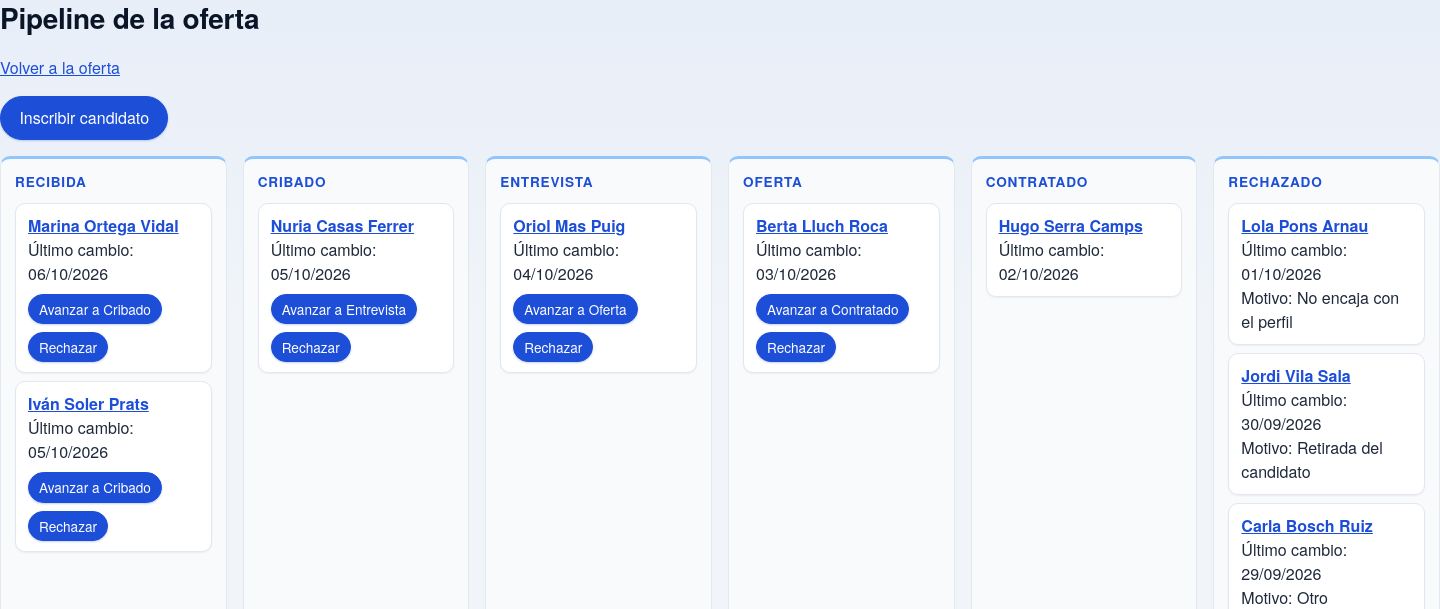
it: PipelineScreen: inscribir (RF-08) › CA-08/EC-43: DUPLICATE → alerta en el panel sin link, texto y resultados intactos, recarga y ninguna tarjeta nueva
The width and height of the screenshot is (1440, 609).
Click the button "Inscribir candidato" at (84, 118), box x1=0 y1=96 x2=168 y2=140
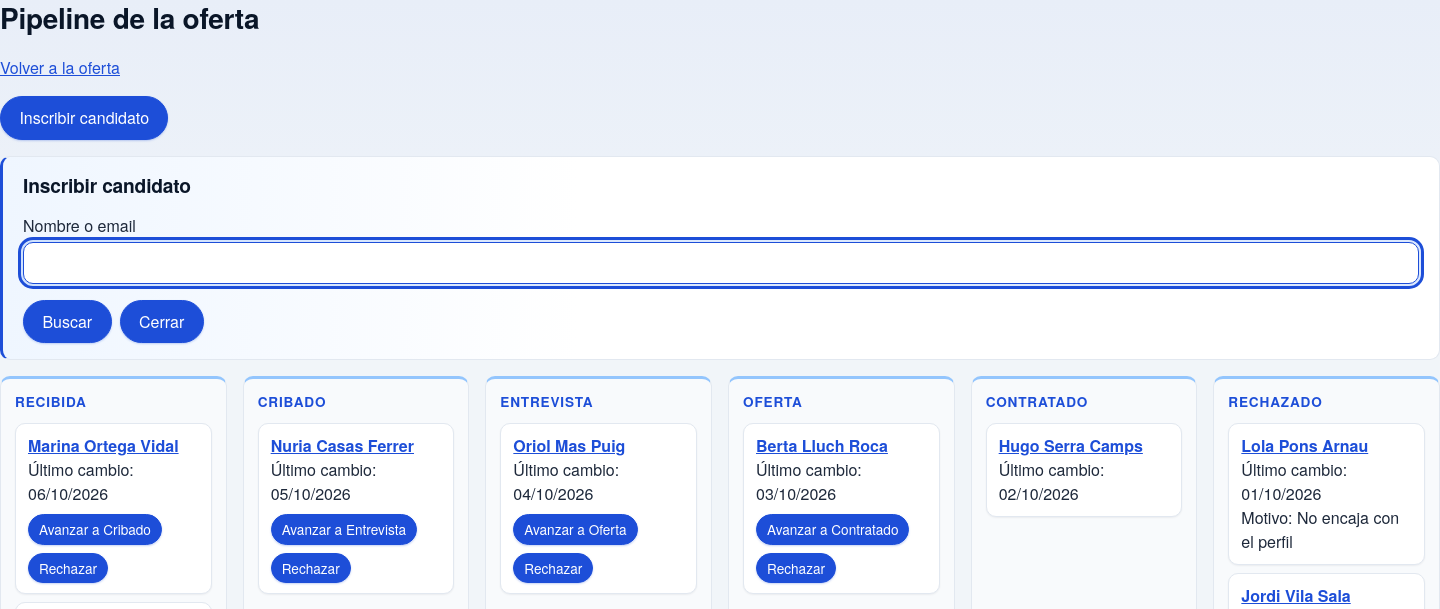
Type "ana" into the search field labelled "Nombre o email" at (721, 263), box x1=23 y1=242 x2=1419 y2=284
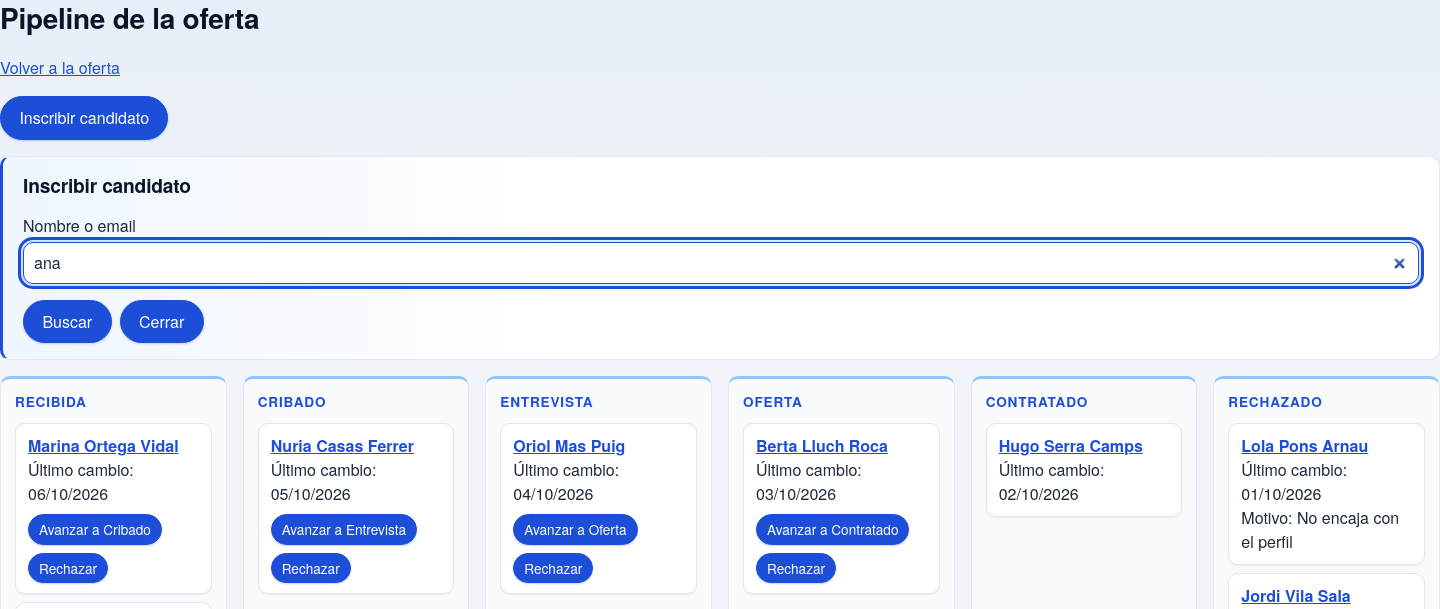
Click the button "Buscar" at (67, 322), box x1=23 y1=300 x2=112 y2=344
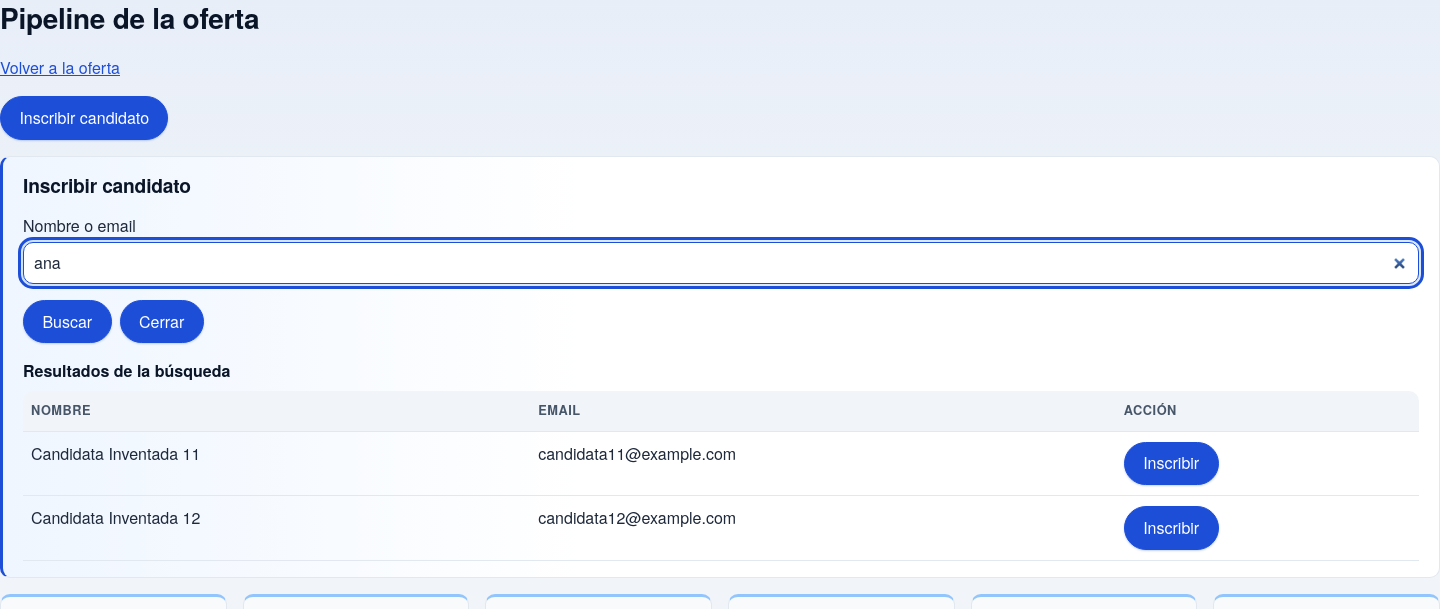
Expected: the table "Resultados de la búsqueda" is shown, x1=23 y1=360 x2=1419 y2=561
Click the button "Inscribir" in the row of "Candidata Inventada 12" at (1171, 528), box x1=1124 y1=506 x2=1219 y2=550
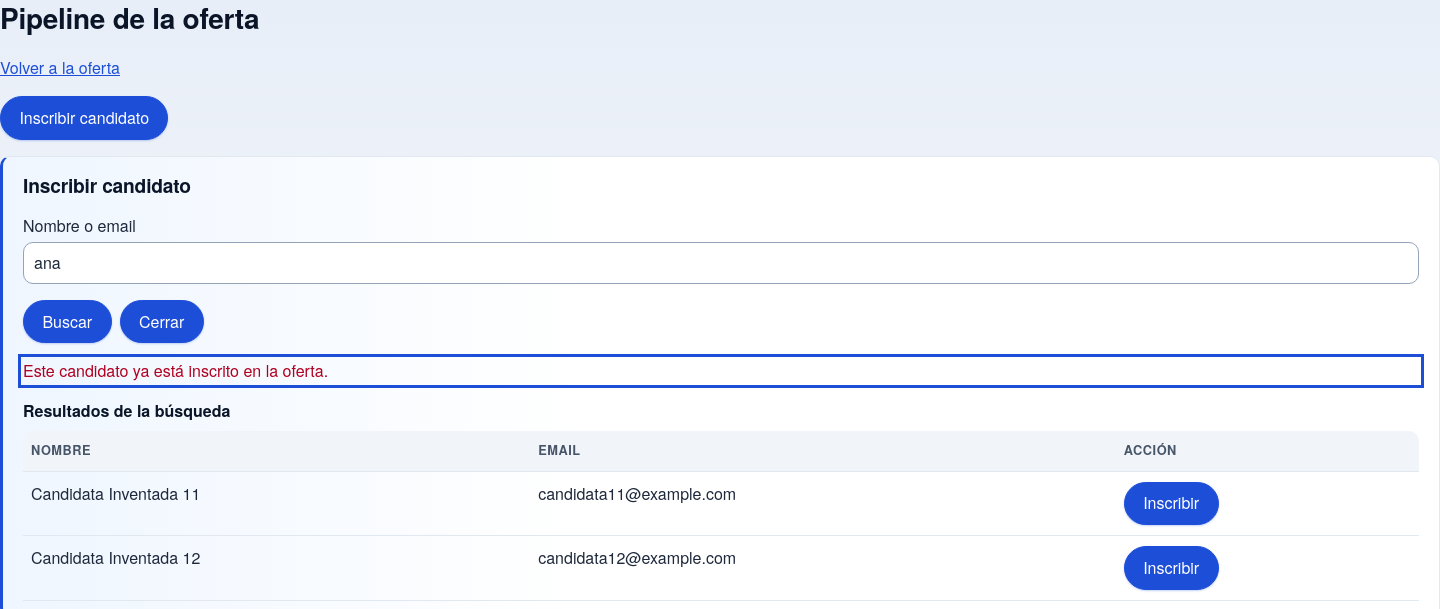
Expected: the message reads "Este candidato ya está inscrito en la oferta.", x1=23 y1=360 x2=328 y2=382
